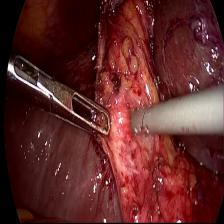Grasper: (54, 74, 110, 146)
Irrigator: (129, 100, 165, 140)
